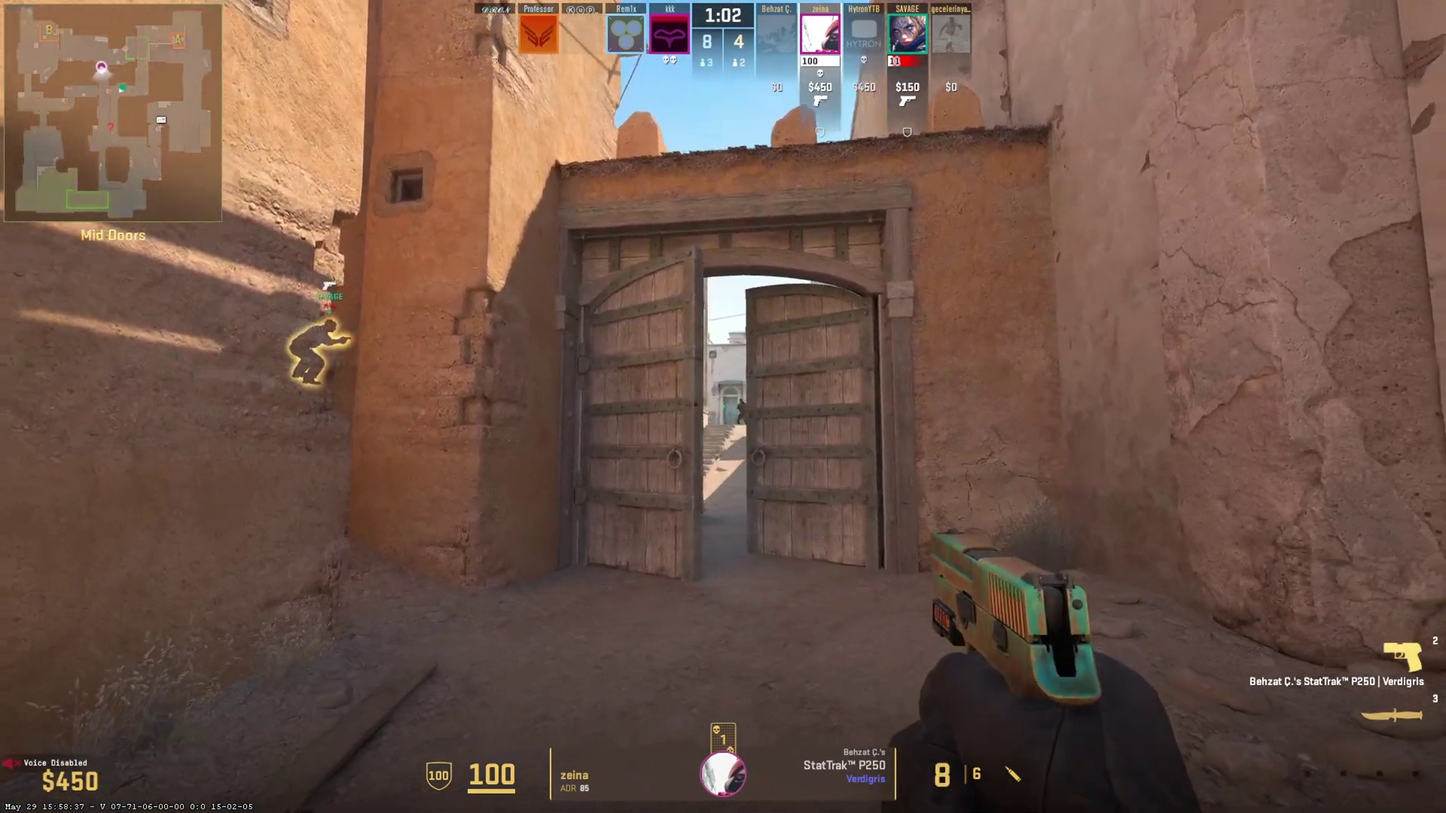CT: (731, 393, 747, 426)
